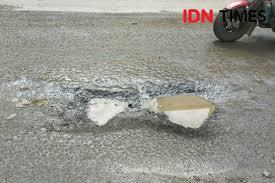Pothole: (142, 82, 226, 135), (72, 86, 134, 125), (21, 80, 57, 108)
